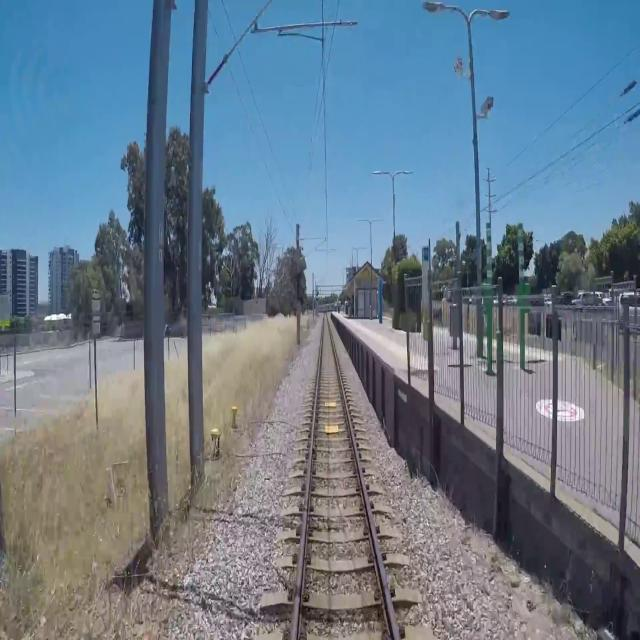rail-track: (297, 314, 395, 639)
